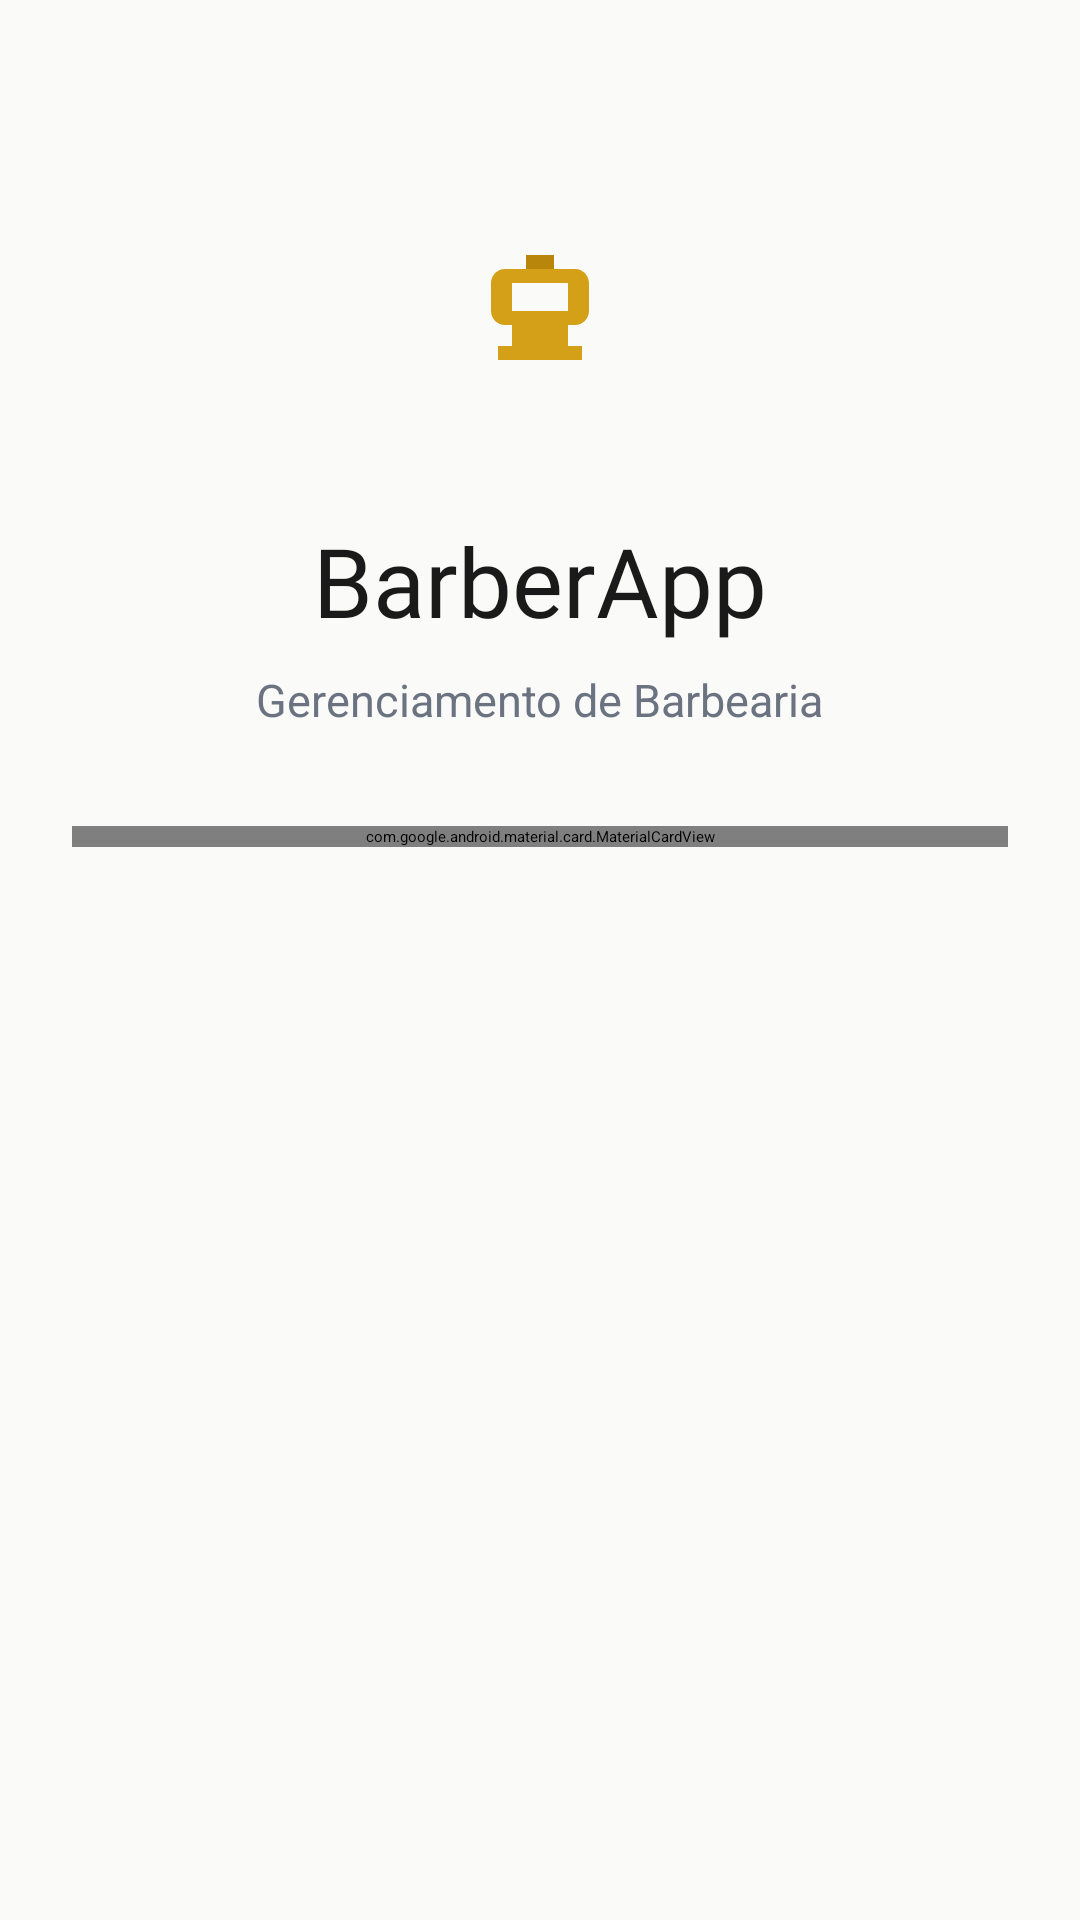

Point at icon controls on the screen. Image size 1080px x 1920px, points as [x,y].
barber chair: [540,307]
